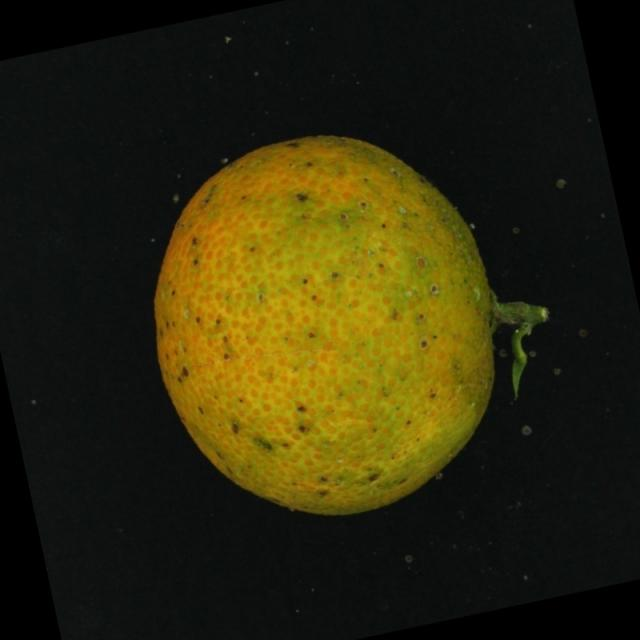grenning: (128, 124, 566, 535)
